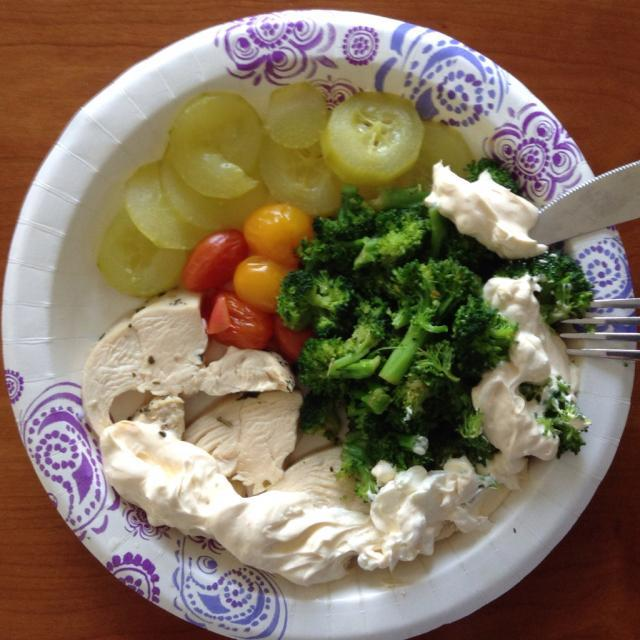Tomato: (201, 292, 277, 355), (183, 229, 252, 295), (270, 313, 313, 359)
